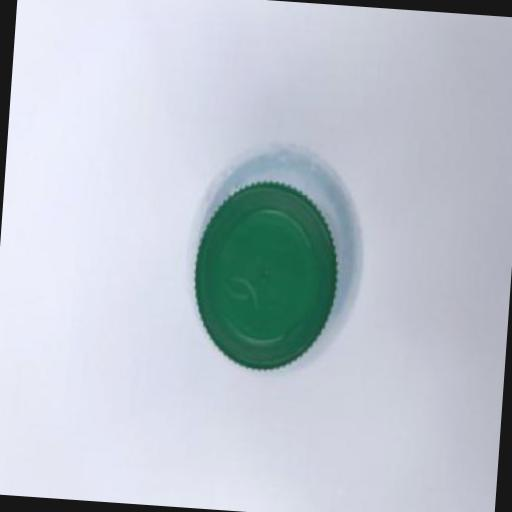plastic: (186, 138, 370, 376), (186, 174, 344, 375)
